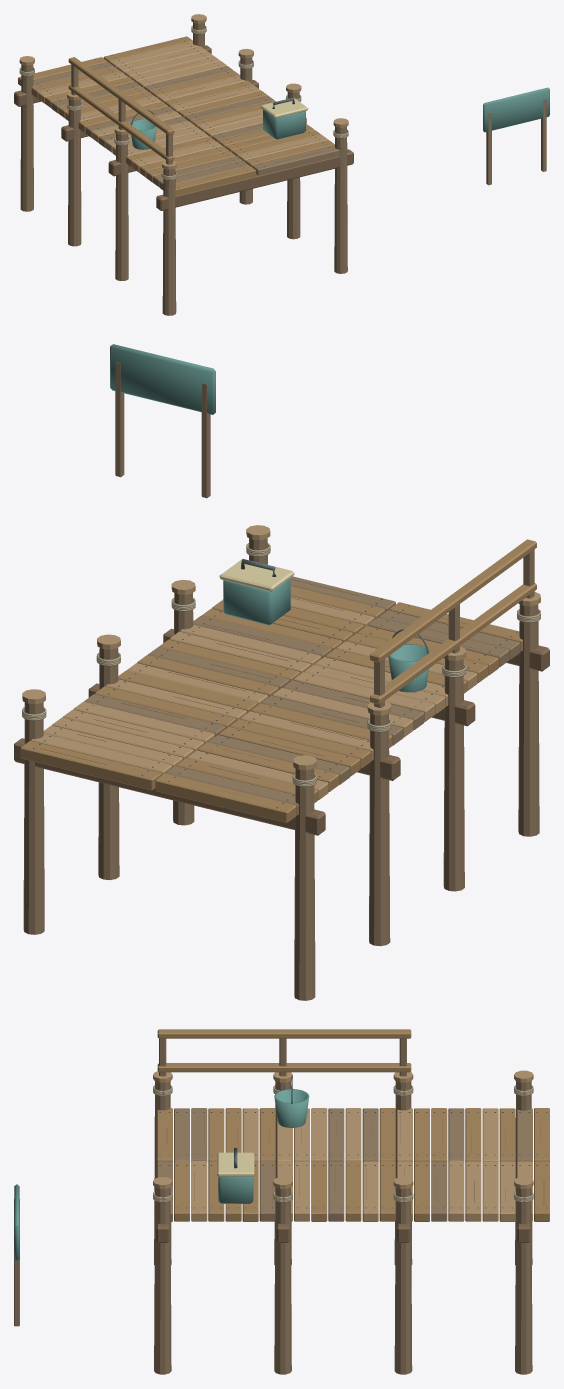
File: station_dock.glb
The picture shows the model from 3 angles, top to bottom: view 1: azimuth 30°, elevation 25°; view 2: azimuth 150°, elevation 25°; view 3: azimuth 270°, elevation 25°; orthographic projection. The views are drawn at different scales.
Visible parts, largest first — view 1: DockWeathered, DockHoney, DockPale, WoodEndgrain, Enamel, Rope, Canvas, Iron; view 2: DockWeathered, DockHoney, DockPale, Enamel, WoodEndgrain, Rope, Canvas, Iron; view 3: DockWeathered, DockHoney, DockPale, Enamel, WoodEndgrain, Rope, Canvas, Iron.
Part boxes in pixels (x1,y1,x2,y2): DockWeathered: (20,22,546,315); DockHoney: (18,36,334,196); DockPale: (19,14,348,172); WoodEndgrain: (14,40,353,210); Enamel: (130,87,549,149); Rope: (19,25,348,180); Canvas: (261,98,308,118); Iron: (33,38,333,187); DockWeathered: (23,362,539,1000); DockHoney: (20,539,536,822); DockPale: (22,525,540,800); Enamel: (110,344,430,692); WoodEndgrain: (14,579,549,835); Rope: (22,543,540,786); Canvas: (219,558,294,591); Iron: (33,559,517,808); DockWeathered: (14,1038,532,1374); DockHoney: (157,1029,549,1221); DockPale: (153,1070,533,1221); Enamel: (14,1089,309,1260); WoodEndgrain: (156,1114,544,1242); Rope: (153,1085,533,1202); Canvas: (217,1152,254,1176); Iron: (159,1076,547,1208).
Bounding box in the file's own units: 6.72 × 3.63 × 7.35.
